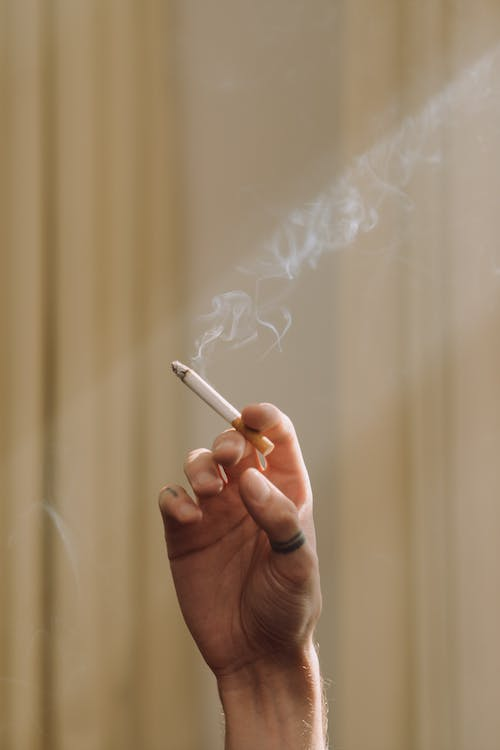cigarette: (167, 353, 278, 458)
